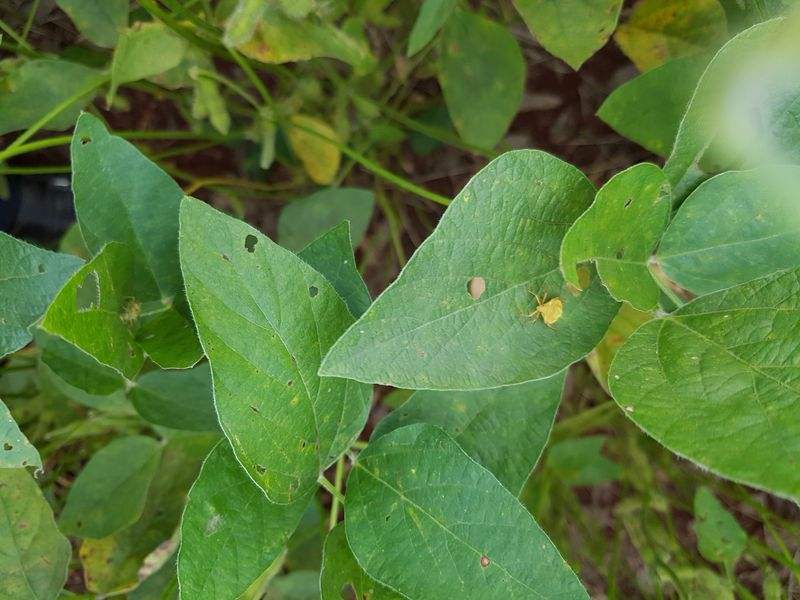Euschistus_heros_ninfa: (518, 283, 569, 337)
